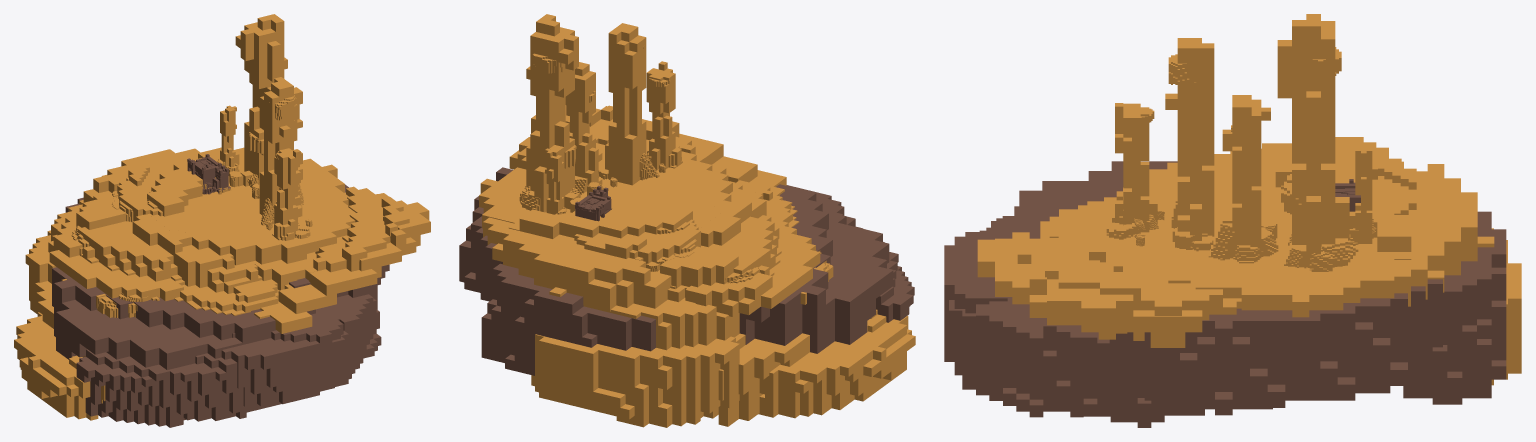
The model's file is voxel_Little Desert Town.glb.
3 views of the same model, side by side, from view 1: azimuth 30°, elevation 25°; view 2: azimuth 150°, elevation 25°; view 3: azimuth 270°, elevation 25° (orthographic). The views are drawn at different scales.
Parts seen in each view (by area): view 1: group1595760260, group6901552, group708423367, group837572733, group666005816, group388214314, group261797082, group1111414173, group1244397913, group399946483, group1729548076, group589683802 (+9 smaller); view 2: group753178580, group1595760260, group6901552, group65333172, group1148855917, group1111414173, group1244397913, group1540364196, group1729548076, group261797082, group212697217, group2129520111 (+11 smaller); view 3: group1240685878, group6901552, group589683802, group1244397913, group65333172, group666005816, group388214314, group1148855917, group1540364196, group912035172, group1595760260, group1476317777 (+10 smaller).
Part boxes in pixels (left/top/right/bottom): group1595760260: left=52, top=267, right=315, bottom=420; group6901552: left=147, top=147, right=355, bottom=265; group708423367: left=76, top=349, right=255, bottom=427; group837572733: left=221, top=312, right=343, bottom=406; group666005816: left=254, top=194, right=430, bottom=333; group388214314: left=255, top=186, right=409, bottom=290; group261797082: left=76, top=192, right=181, bottom=281; group1111414173: left=14, top=312, right=98, bottom=420; group1244397913: left=235, top=14, right=287, bottom=186; group399946483: left=132, top=213, right=262, bottom=293; group1729548076: left=48, top=215, right=184, bottom=306; group589683802: left=316, top=284, right=381, bottom=386; group753178580: left=531, top=334, right=739, bottom=427; group1595760260: left=739, top=184, right=893, bottom=353; group6901552: left=479, top=142, right=732, bottom=238; group65333172: left=481, top=263, right=655, bottom=375; group1148855917: left=483, top=217, right=688, bottom=311; group1111414173: left=758, top=316, right=915, bottom=418; group1244397913: left=526, top=14, right=578, bottom=212; group1540364196: left=605, top=23, right=646, bottom=185; group1729548076: left=670, top=224, right=824, bottom=316; group261797082: left=660, top=215, right=781, bottom=288; group212697217: left=700, top=333, right=809, bottom=426; group2129520111: left=583, top=298, right=739, bottom=350; group1240685878: left=1109, top=279, right=1442, bottom=415; group6901552: left=1089, top=157, right=1411, bottom=317; group589683802: left=949, top=297, right=1204, bottom=427; group1244397913: left=1277, top=14, right=1349, bottom=254; group65333172: left=1390, top=211, right=1506, bottom=404; group666005816: left=977, top=232, right=1202, bottom=347; group388214314: left=1017, top=221, right=1241, bottom=320; group1148855917: left=1394, top=164, right=1494, bottom=306; group1540364196: left=1165, top=38, right=1214, bottom=240; group912035172: left=1222, top=95, right=1270, bottom=258; group1595760260: left=996, top=161, right=1272, bottom=409; group1476317777: left=1115, top=103, right=1157, bottom=234.
Bounding box in the file's own units: 2.86 × 2.26 × 2.74.
